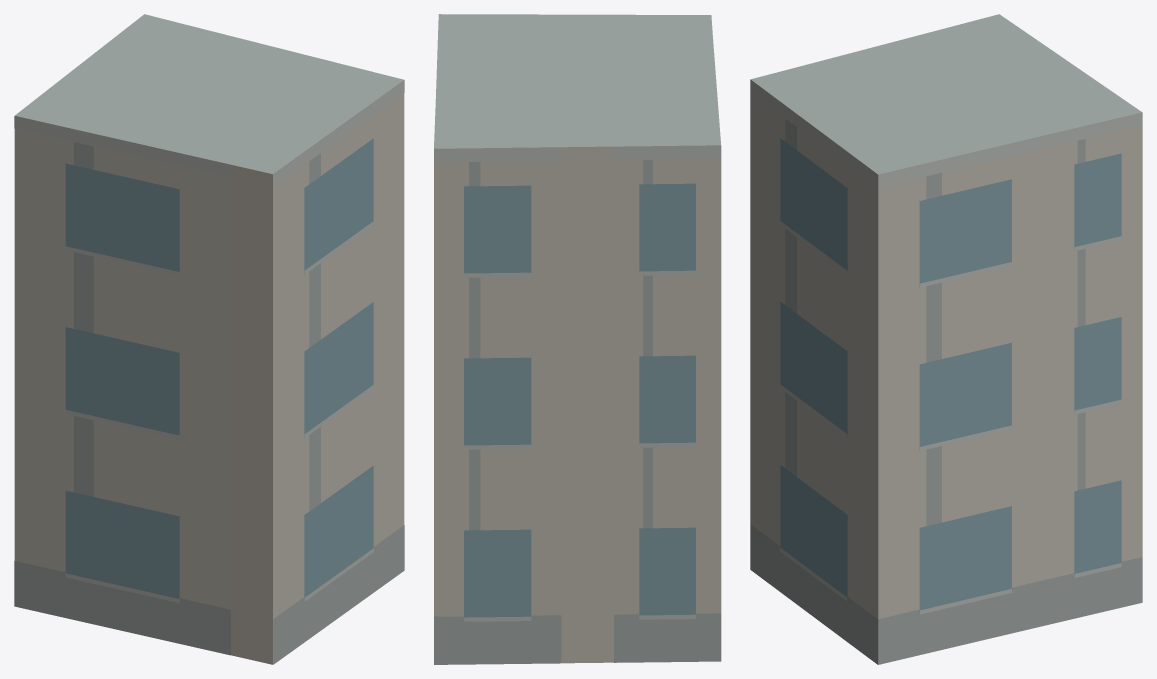
The model's file is survey-upis-32808716.glb.
The picture shows the model from 3 angles, left to right: view 1: azimuth 30°, elevation 25°; view 2: azimuth 150°, elevation 25°; view 3: azimuth 270°, elevation 25°; orthographic projection. The views are drawn at different scales.
Visible parts, largest first — view 1: survey-upis-32808716.tmp; view 2: survey-upis-32808716.tmp; view 3: survey-upis-32808716.tmp.
Boxes of the visible parts, x1,y1,x2,y2 form: survey-upis-32808716.tmp: (14,14,404,664); survey-upis-32808716.tmp: (434,14,721,664); survey-upis-32808716.tmp: (750,14,1142,664).
Bounding box in the file's own units: 6.43 × 9.15 × 6.64.
